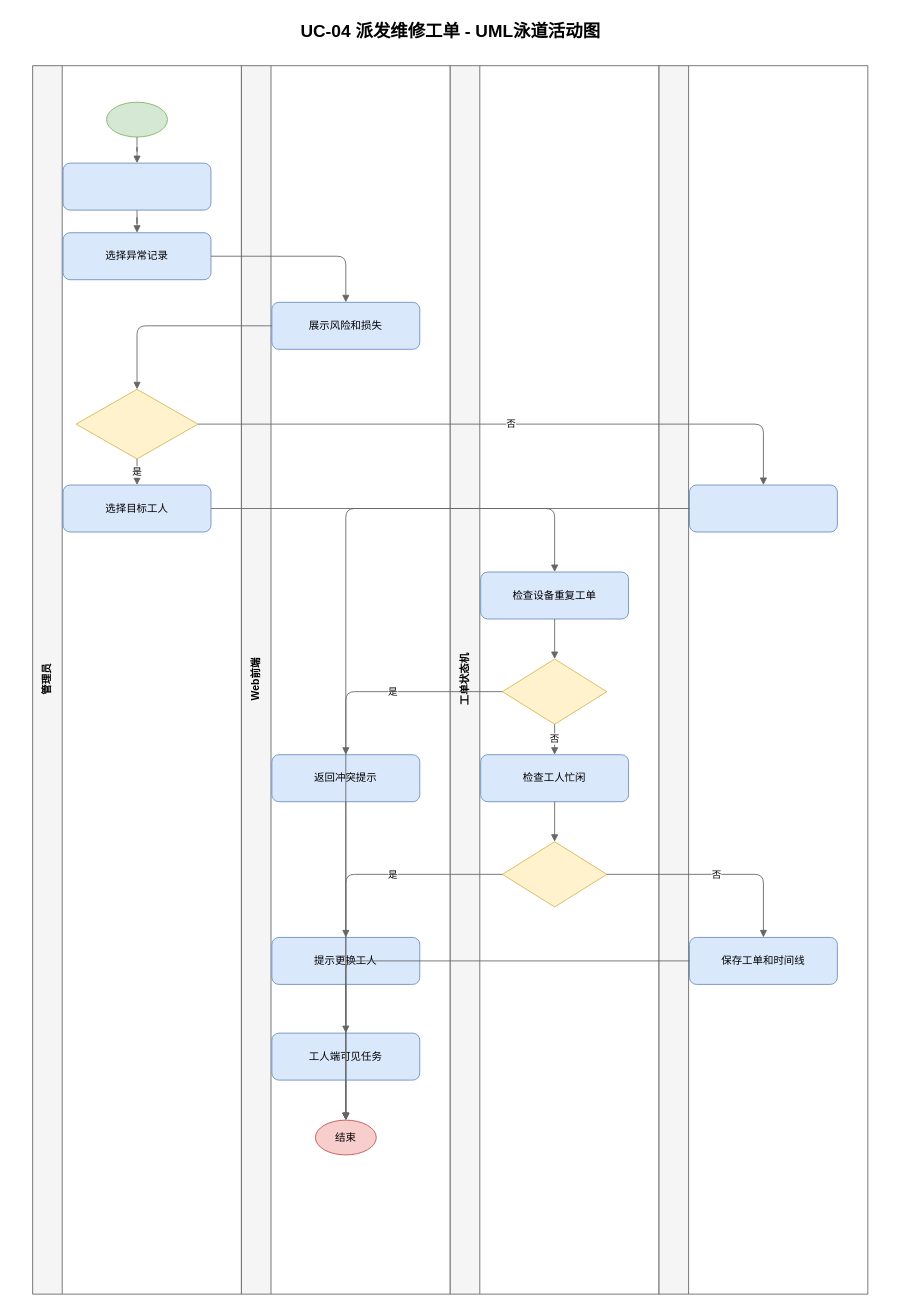
Some shapes in this 900 by 1309 pixel diagram are drawn without their labels. Each missing label, with the box of its shape:
开始: (106, 101, 167, 137)
忙碌?: (502, 841, 607, 907)
持久化存储: (658, 65, 868, 1294)
查看异常/派单建议: (62, 162, 211, 210)
记录忽略原因: (689, 484, 837, 532)
重复?: (502, 658, 607, 724)
需要现场处理?: (75, 388, 198, 459)
